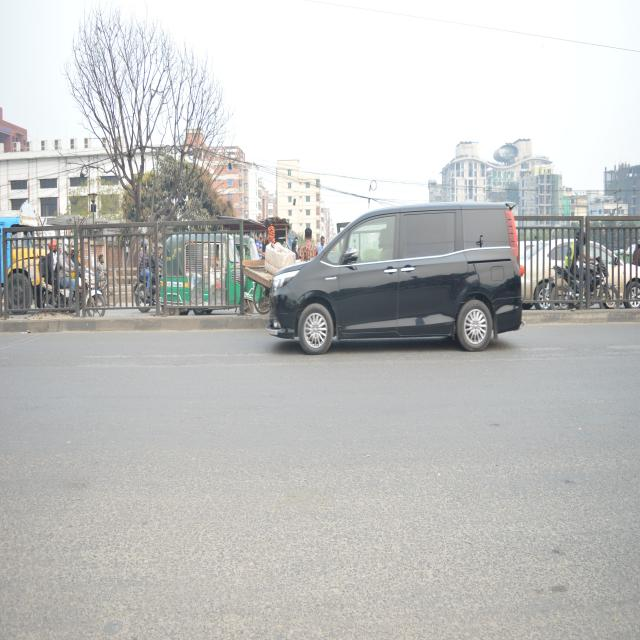microbus: (260, 188, 527, 364)
motorbike: (43, 257, 114, 328), (551, 242, 613, 318)
truck: (0, 209, 44, 315)
